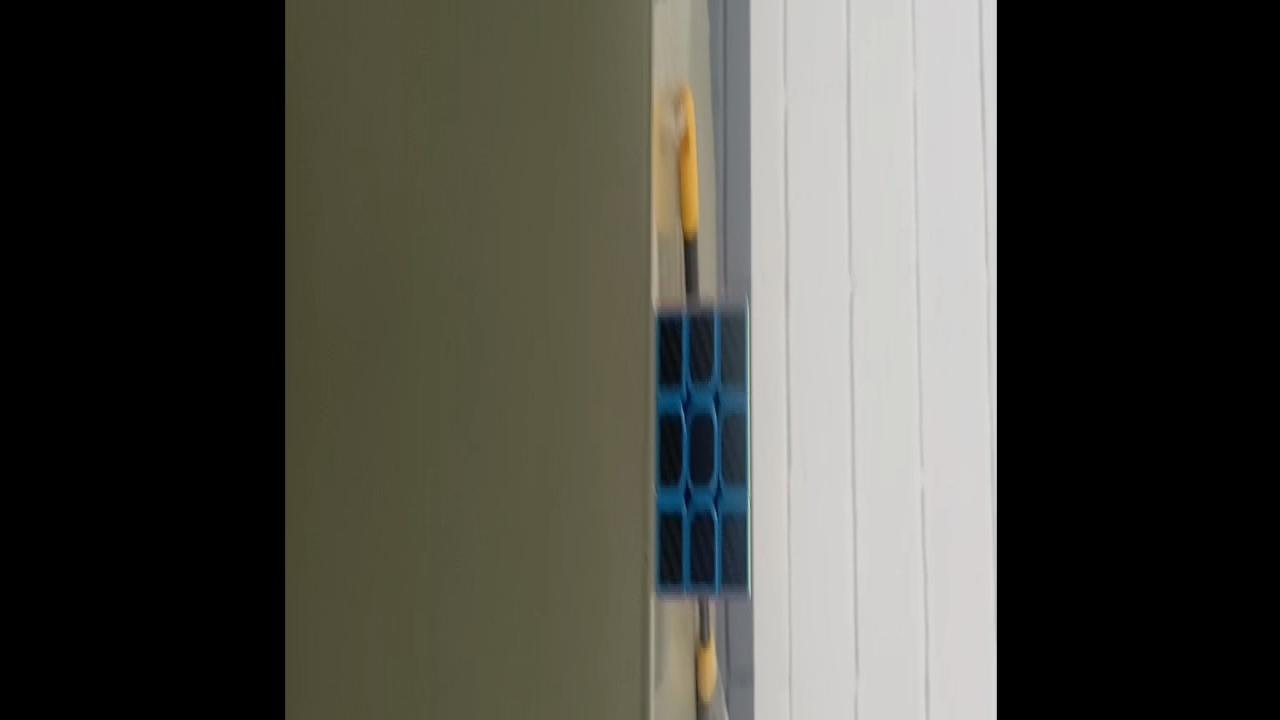Cube: (654, 290, 752, 600)
